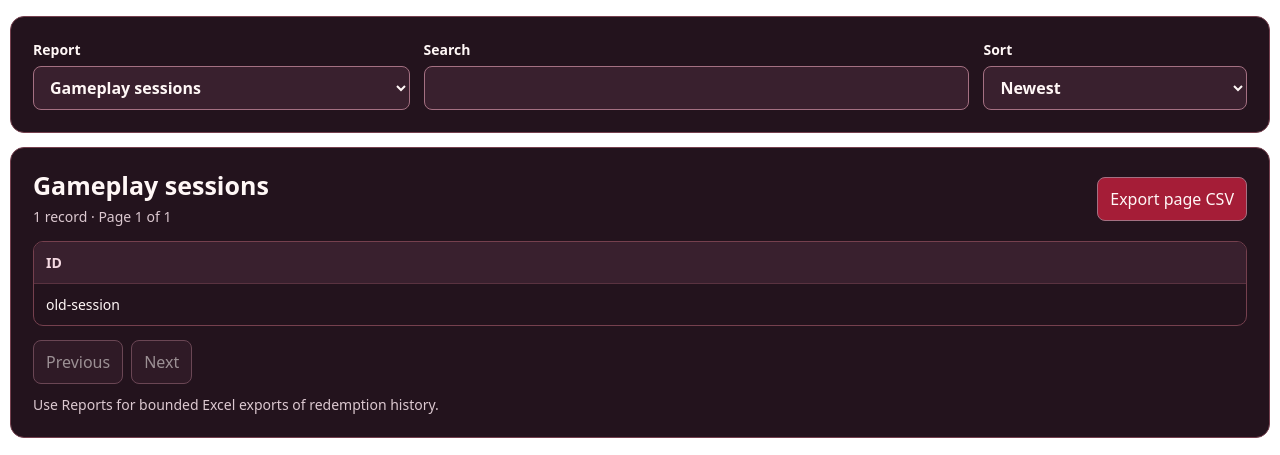
operations replacement hides old rows while new request is pending
Check: the text "old-session" is shown, box x1=46 y1=295 x2=120 y2=314
Select "Audit logs" in the dropdown labelled "Report" at (221, 88), box x1=33 y1=66 x2=410 y2=110
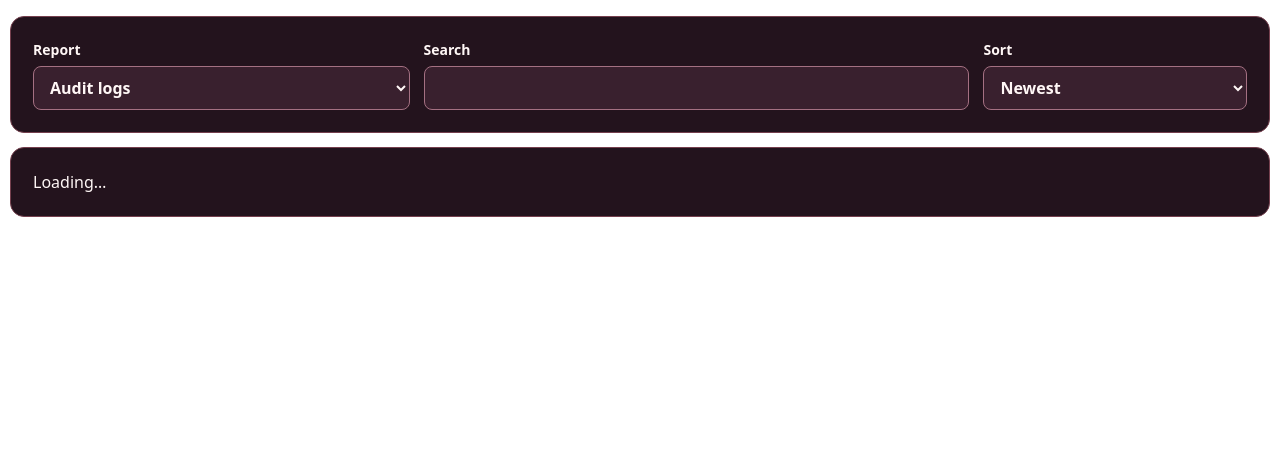
Check: the text "old-session" is gone
Check: the message shows "Loading", box x1=33 y1=171 x2=106 y2=193
